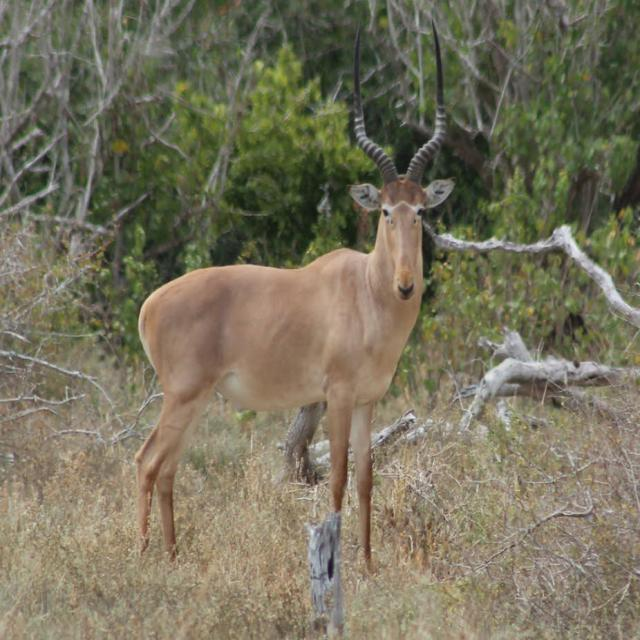Antelope: (130, 16, 461, 584)
